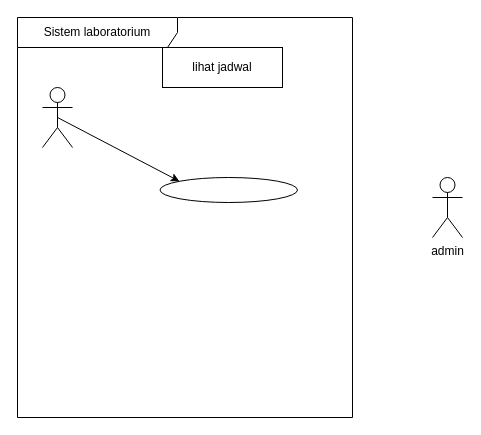
The diagram is 481 pixels wide and 435 high, and some of its shapes have lost their labels. Each missing label, with the centre of its shape:
kelola jadwal kuliah: (228,189)
Mahasiswa: (57,117)
